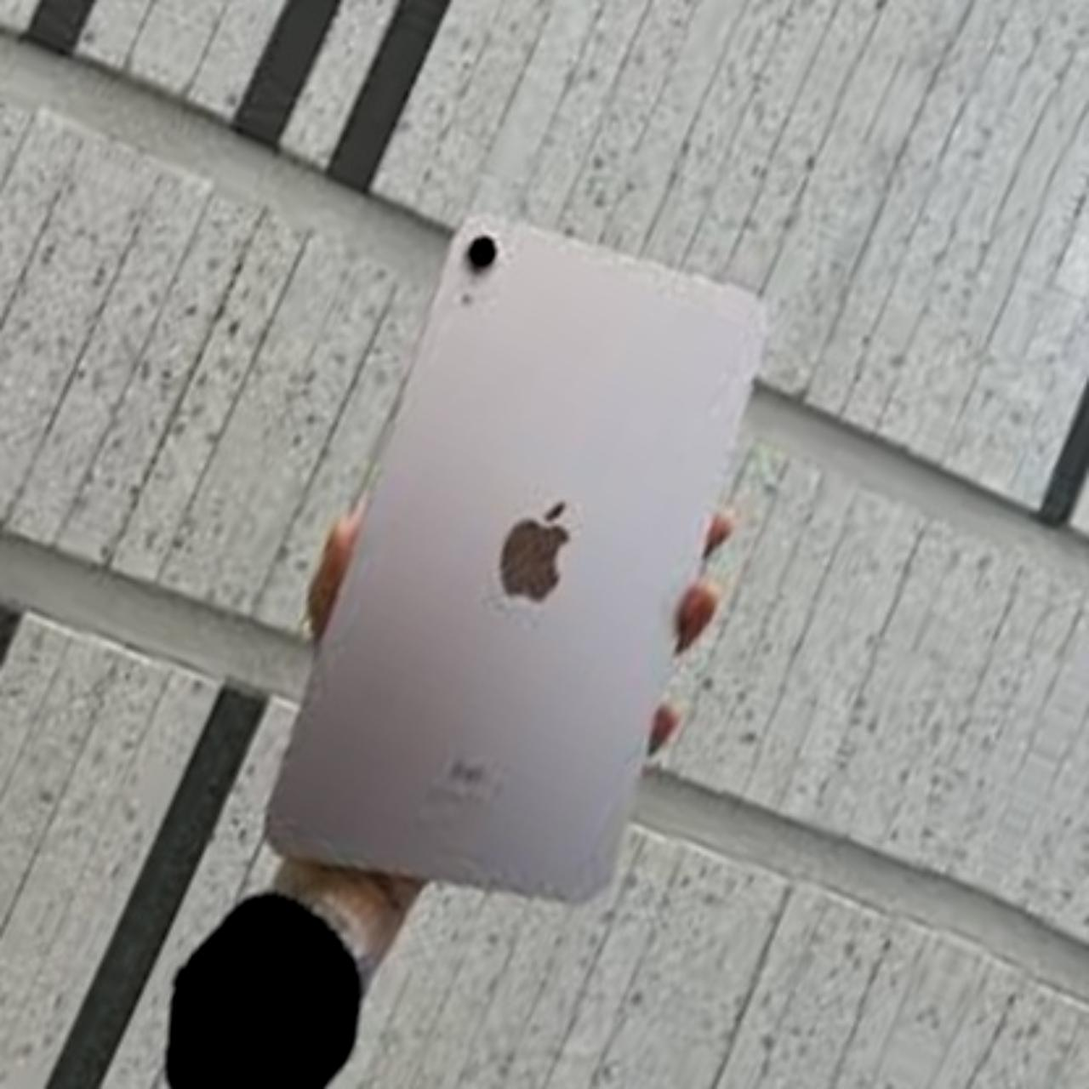Tablet_PC: (169, 157, 870, 1000)
